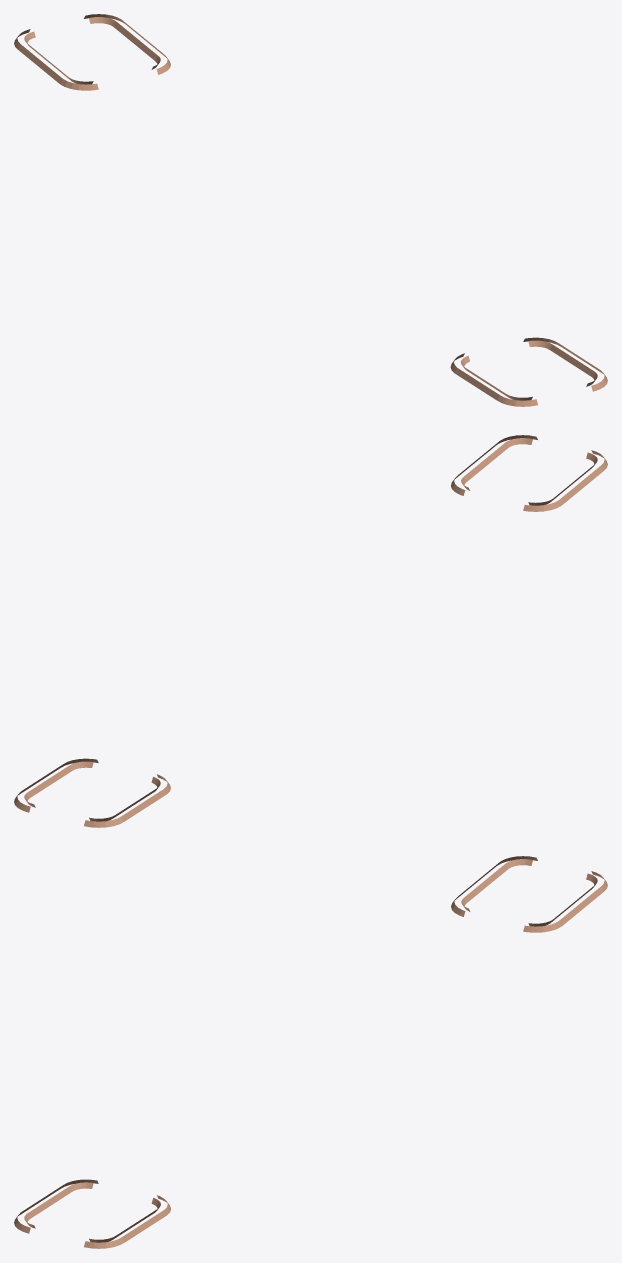
Rendered from cluster_21.fbx.
The picture shows the model from 3 angles, top to bottom: view 1: azimuth 30°, elevation 25°; view 2: azimuth 150°, elevation 25°; view 3: azimuth 330°, elevation 25°; orthographic projection.
Visible parts, largest first — view 1: cluster_21; view 2: cluster_21; view 3: cluster_21.
Part boxes in pixels (<box>): cluster_21: <box>14,14,607,406</box>; cluster_21: <box>14,435,607,827</box>; cluster_21: <box>14,856,607,1248</box>.
Size of the model in its own units: 170742 by 13012 by 1405869.
